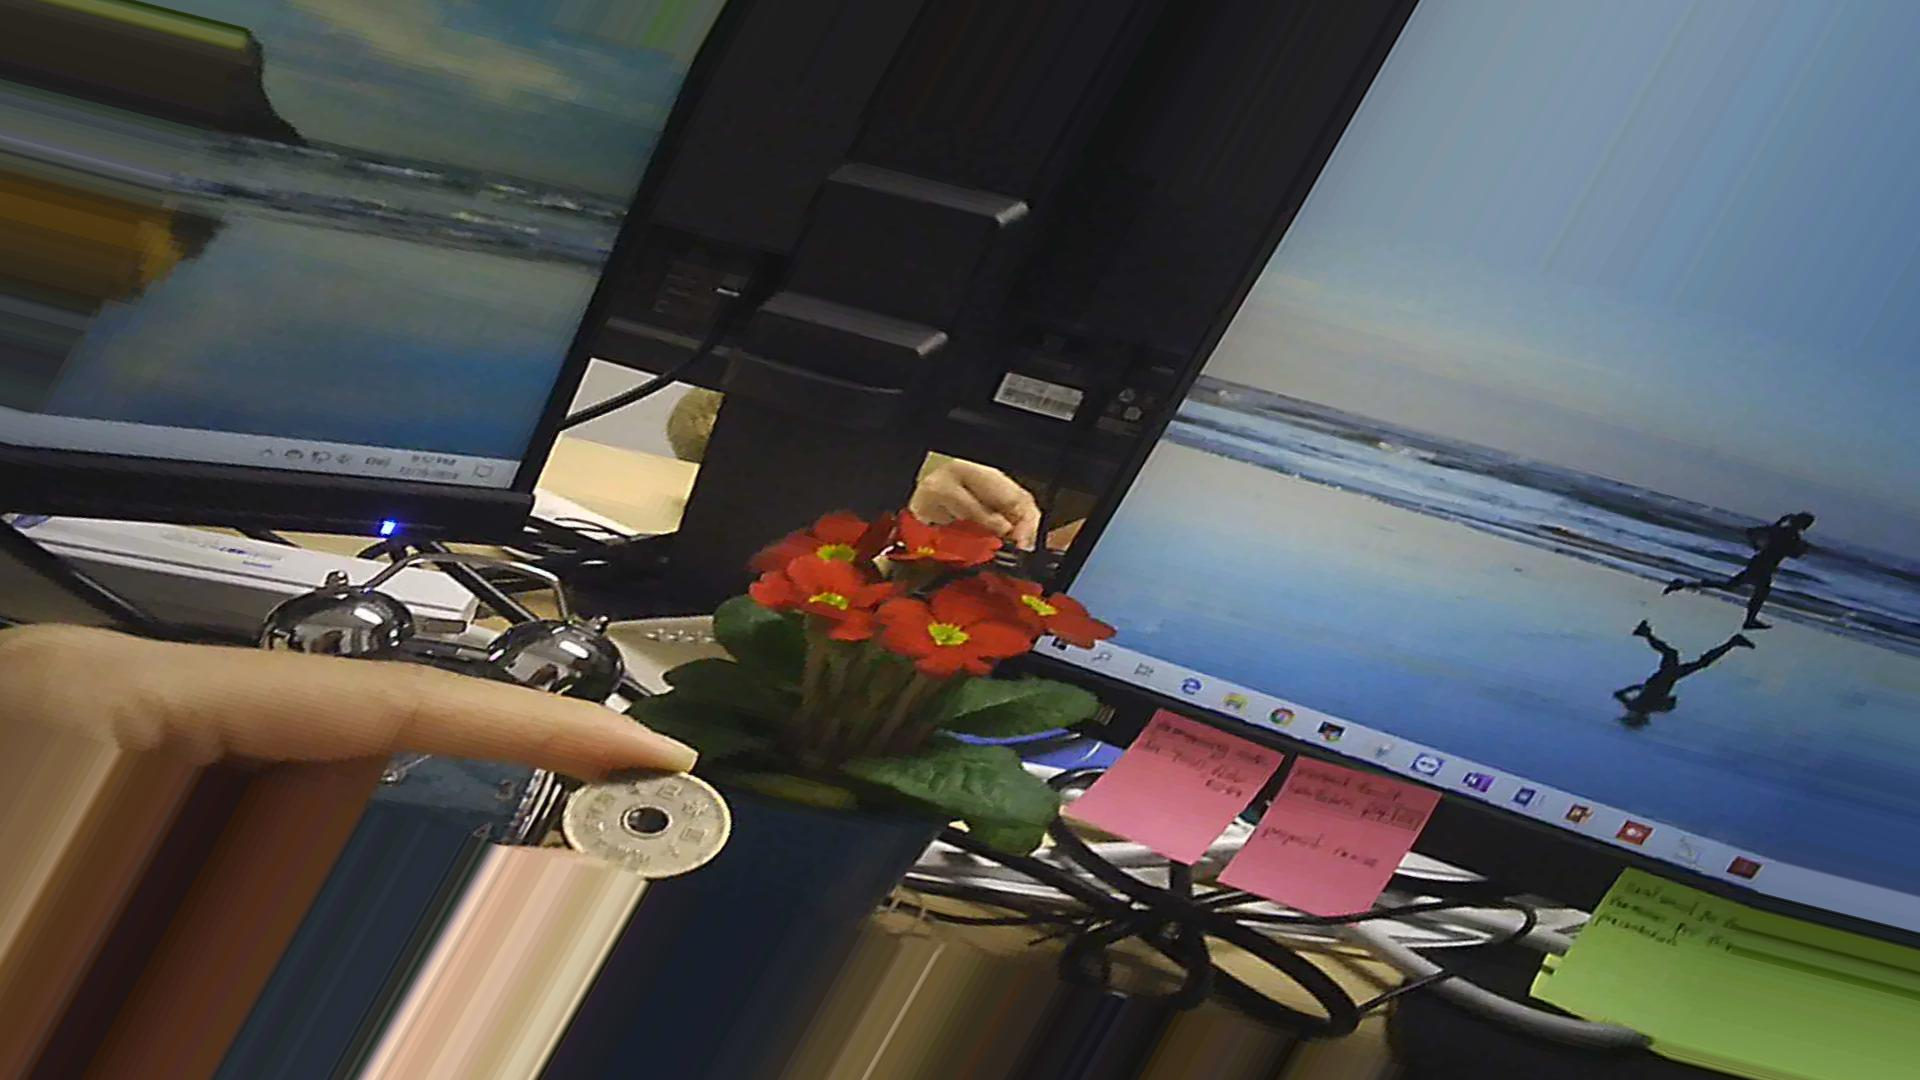5 Yen: (539, 760, 752, 887)
